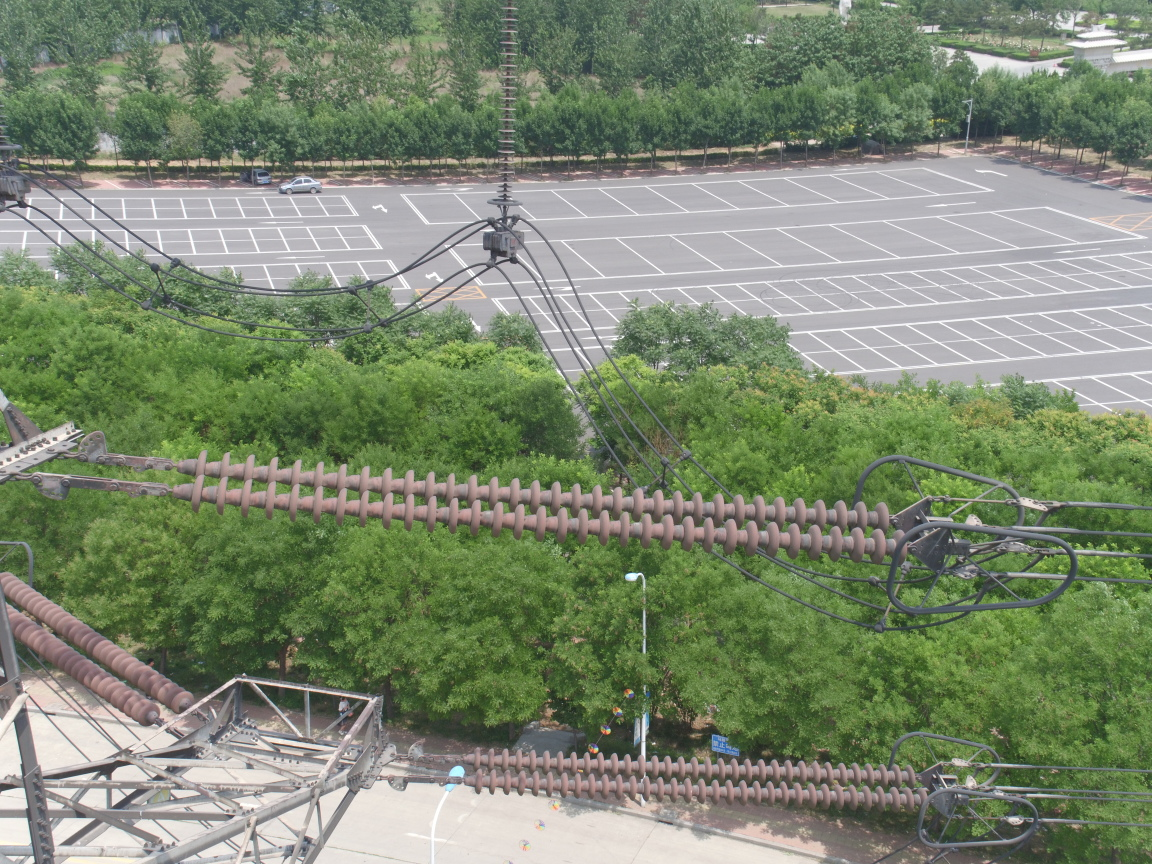insulator: (158, 447, 922, 566), (443, 745, 936, 814), (1, 571, 202, 729)
